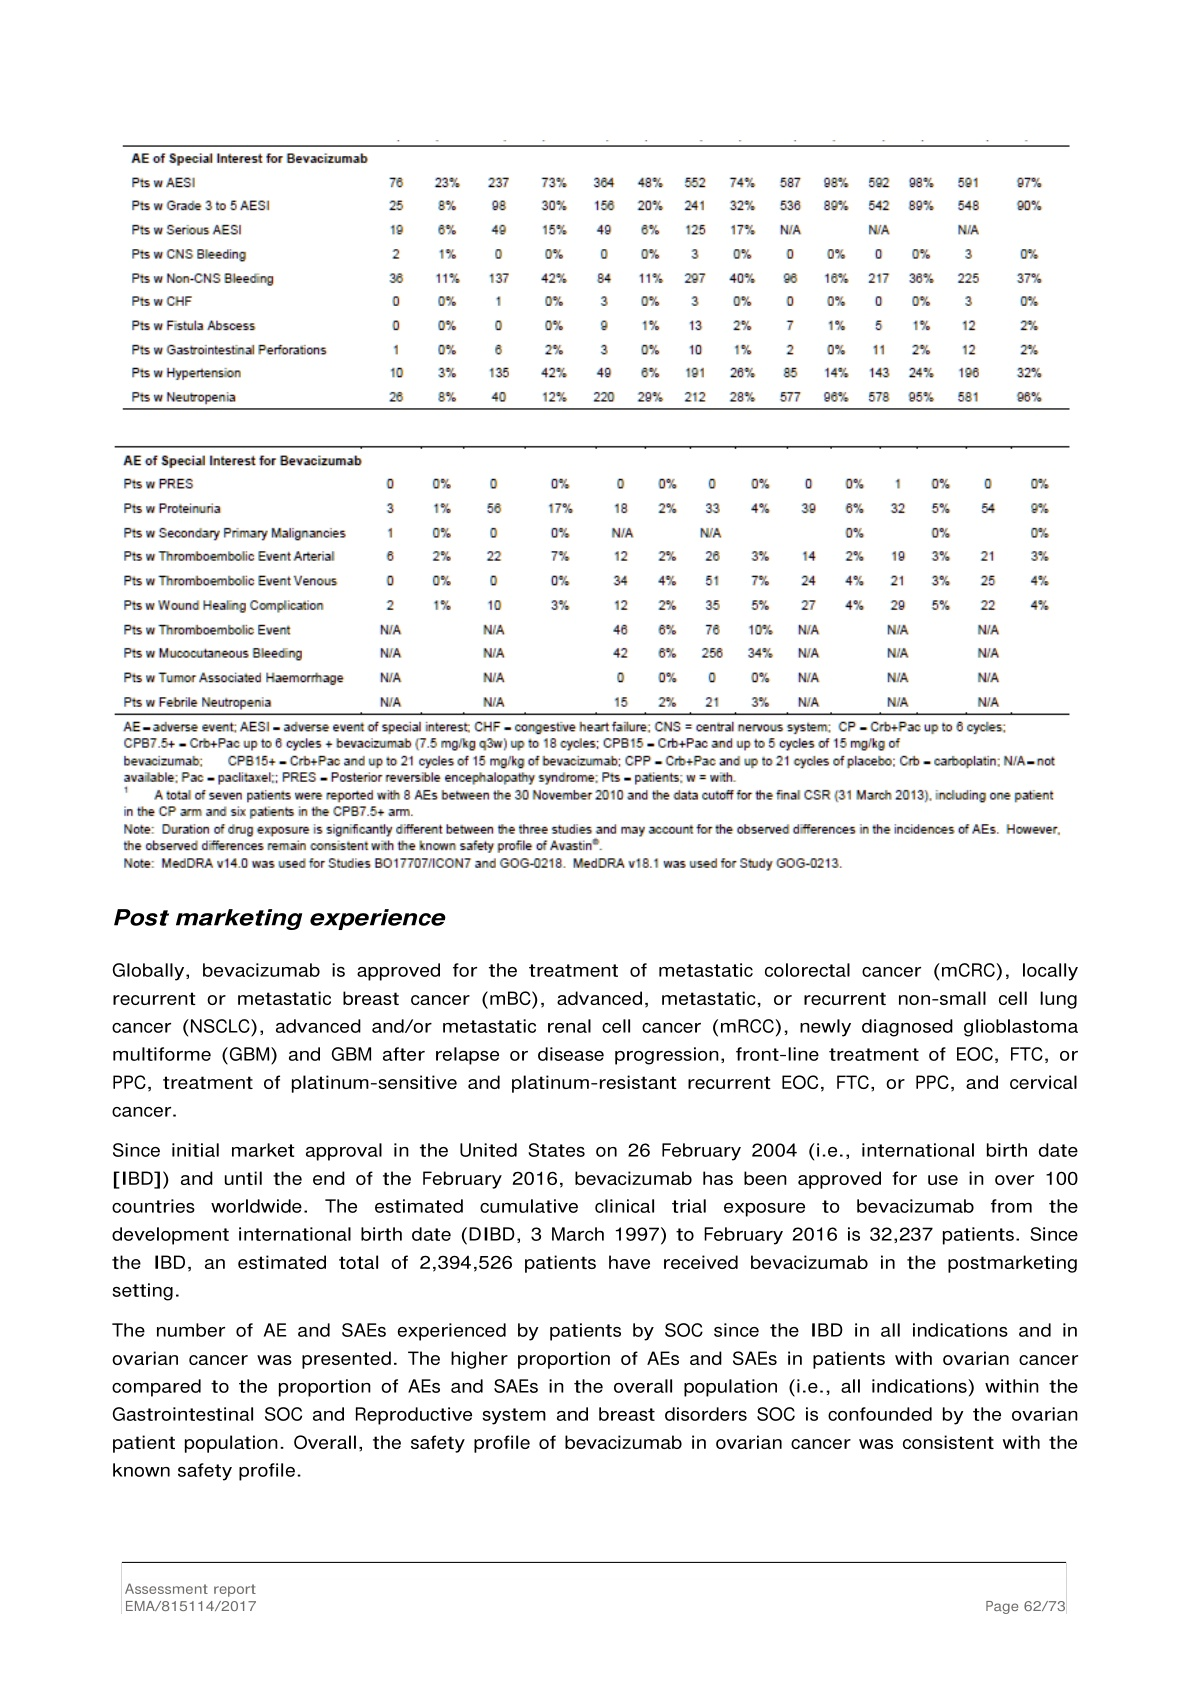partial_lined: (115, 444, 1070, 716), (122, 143, 1072, 411)
